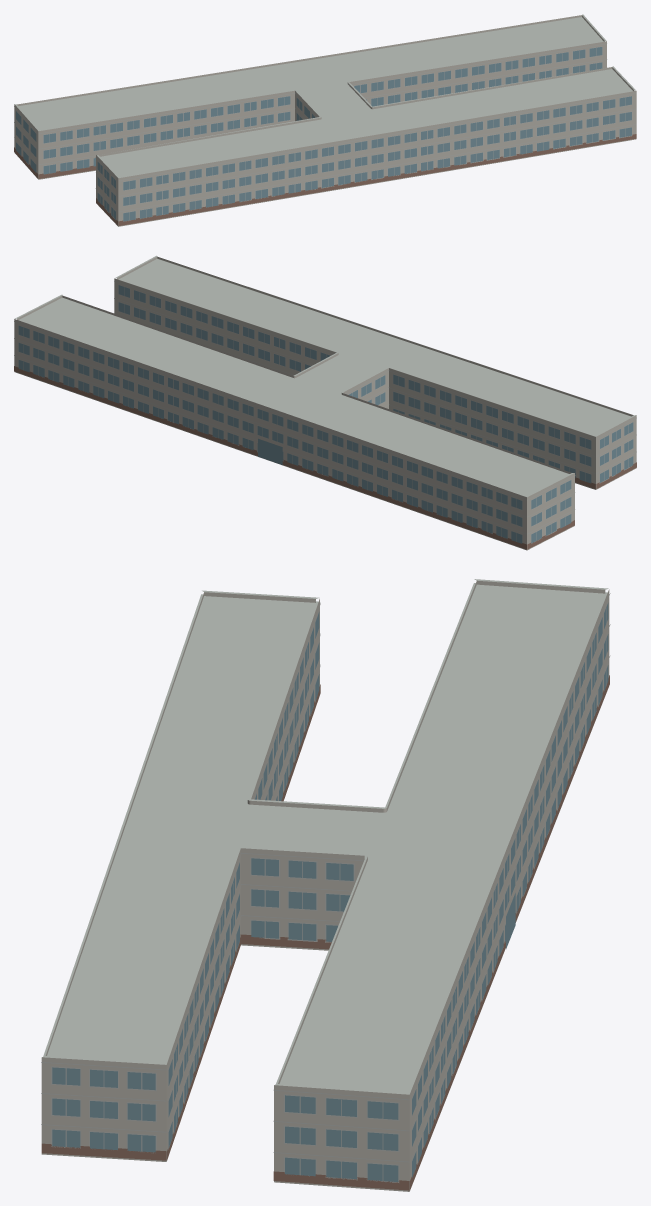
File: public-2acdf01f-3c4f-47b8-b3a2-154765295f64.glb
3 renders of one model, top to bottom at view 1: azimuth 30°, elevation 25°; view 2: azimuth 150°, elevation 25°; view 3: azimuth 270°, elevation 25°, orthographic. The views are drawn at different scales.
Visible parts, largest first — view 1: public-2acdf01f-3c4f-47b8-b3a2-154765295f64; view 2: public-2acdf01f-3c4f-47b8-b3a2-154765295f64; view 3: public-2acdf01f-3c4f-47b8-b3a2-154765295f64.
Part boxes in pixels (bbox=[...]): public-2acdf01f-3c4f-47b8-b3a2-154765295f64: bbox=[14, 14, 636, 226]; public-2acdf01f-3c4f-47b8-b3a2-154765295f64: bbox=[14, 255, 636, 550]; public-2acdf01f-3c4f-47b8-b3a2-154765295f64: bbox=[41, 579, 610, 1191].
Bounding box in the file's own units: 104 × 9.15 × 48.57.
